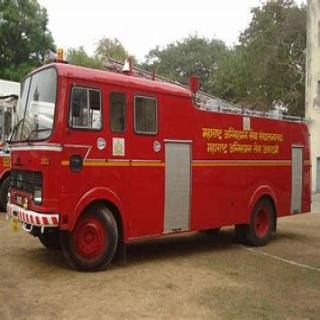Fire_truck: (4, 48, 312, 272)
